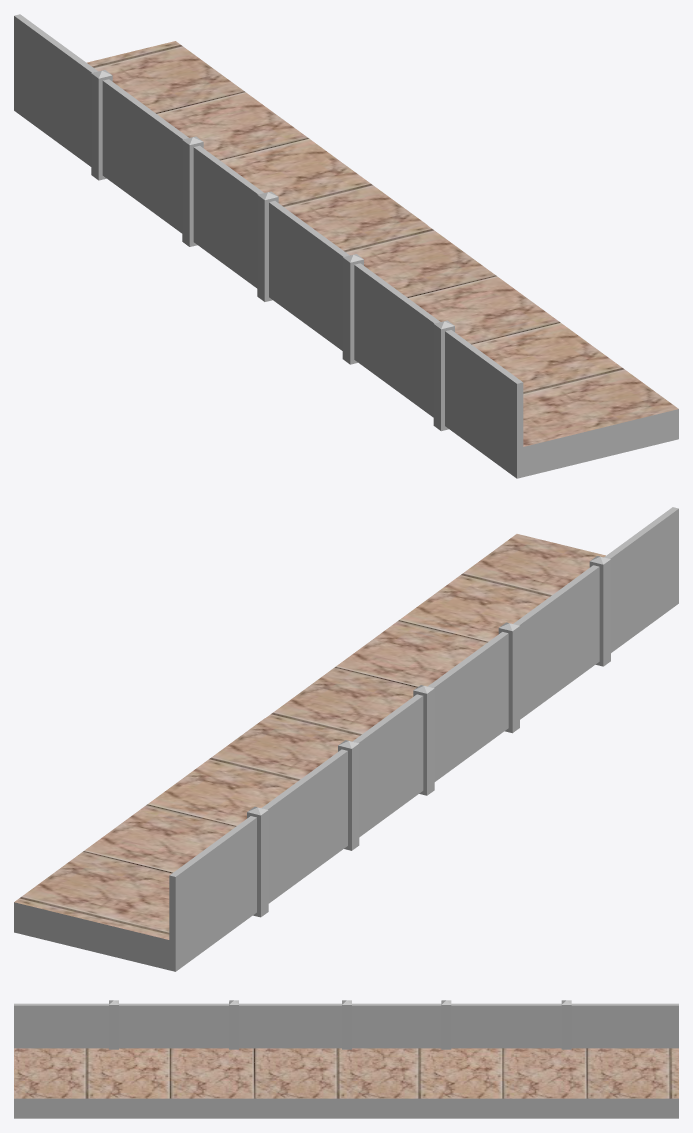
File: footbridge05.fbx
The picture shows the model from 3 angles, top to bottom: view 1: azimuth 30°, elevation 25°; view 2: azimuth 150°, elevation 25°; view 3: azimuth 270°, elevation 25°; orthographic projection. The views are drawn at different scales.
Parts seen in each view (by area): view 1: footbridge05; view 2: footbridge05; view 3: footbridge05.
Boxes of the visible parts, <box> form: footbridge05: <box>14,14,678,478</box>; footbridge05: <box>14,507,678,971</box>; footbridge05: <box>14,1000,678,1118</box>.
Bounding box in the file's own units: 3.27 × 1.98 × 17.13.
